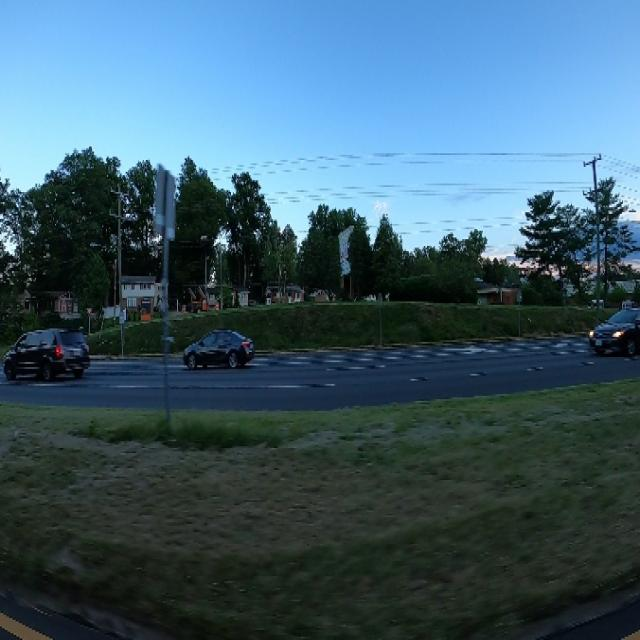cars: (1, 302, 96, 388), (182, 316, 256, 377), (588, 296, 640, 361)
